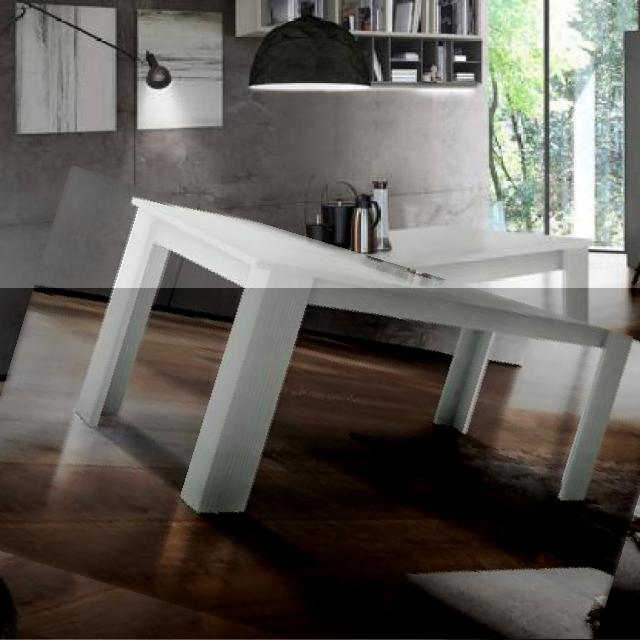floor: (0, 288, 640, 640)
